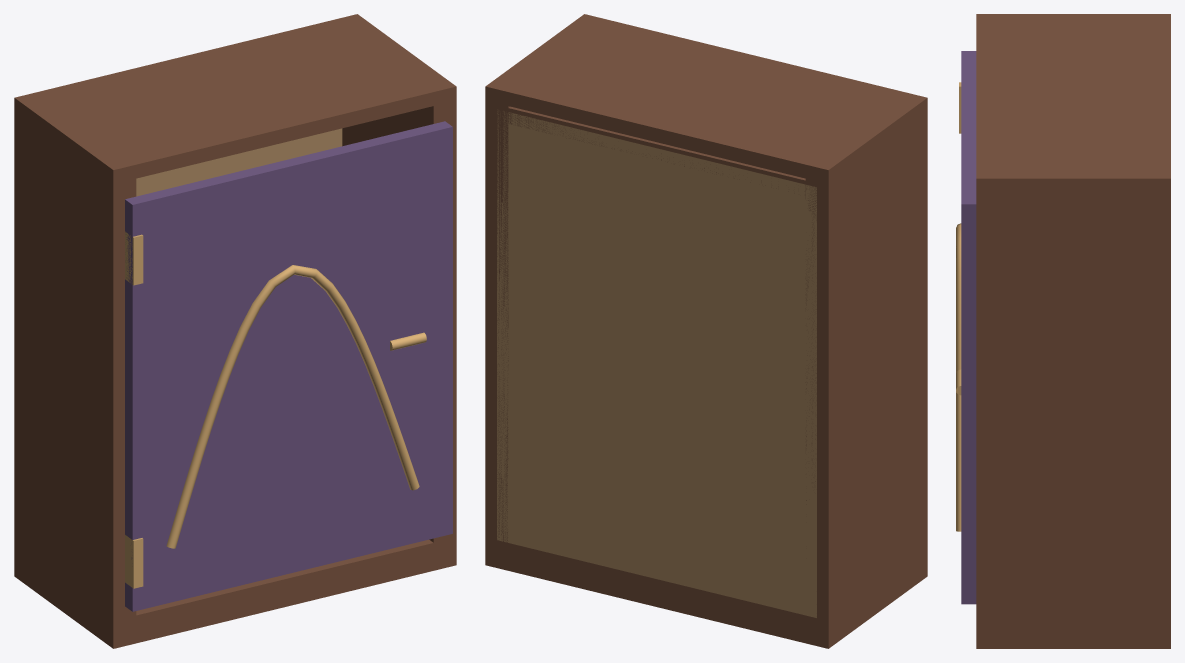
The picture shows the model from 3 angles, left to right: view 1: azimuth 30°, elevation 25°; view 2: azimuth 150°, elevation 25°; view 3: azimuth 270°, elevation 25°; orthographic projection.
Visible parts, largest first — view 1: cabinet-door-leaf, cabinet-side-left, cabinet-top, cabinet-bottom, door-curved-arch, cabinet-side-right, cabinet-inner-back, door-hinge-lower, door-hinge-upper; view 2: cabinet-inner-back, cabinet-side-left, cabinet-top, cabinet-bottom, cabinet-side-right, cabinet-back-rail; view 3: cabinet-side-right, cabinet-top, cabinet-door-leaf, cabinet-bottom, door-curved-arch.
Boxes of the visible parts, x1,y1,x2,y2 form: cabinet-door-leaf: [125, 121, 452, 611]; cabinet-side-left: [14, 110, 136, 628]; cabinet-top: [14, 14, 456, 183]; cabinet-bottom: [14, 537, 456, 648]; door-curved-arch: [166, 265, 419, 548]; cabinet-side-right: [342, 100, 456, 549]; cabinet-inner-back: [136, 128, 342, 196]; door-hinge-lower: [125, 535, 143, 588]; door-hinge-upper: [125, 231, 143, 285]; cabinet-inner-back: [497, 109, 816, 617]; cabinet-side-left: [805, 110, 927, 628]; cabinet-top: [485, 14, 927, 183]; cabinet-bottom: [485, 537, 927, 648]; cabinet-side-right: [485, 98, 509, 550]; cabinet-back-rail: [497, 106, 816, 197]; cabinet-side-right: [976, 190, 1170, 629]; cabinet-top: [976, 14, 1170, 192]; cabinet-door-leaf: [961, 51, 976, 604]; cabinet-bottom: [976, 621, 1170, 648]; door-curved-arch: [956, 223, 961, 531].
Size of the model in its own units: 0.9 by 1.2 by 0.497.
